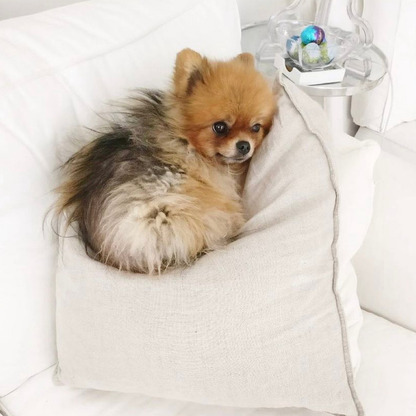Pomeranian: (45, 54, 281, 276)
